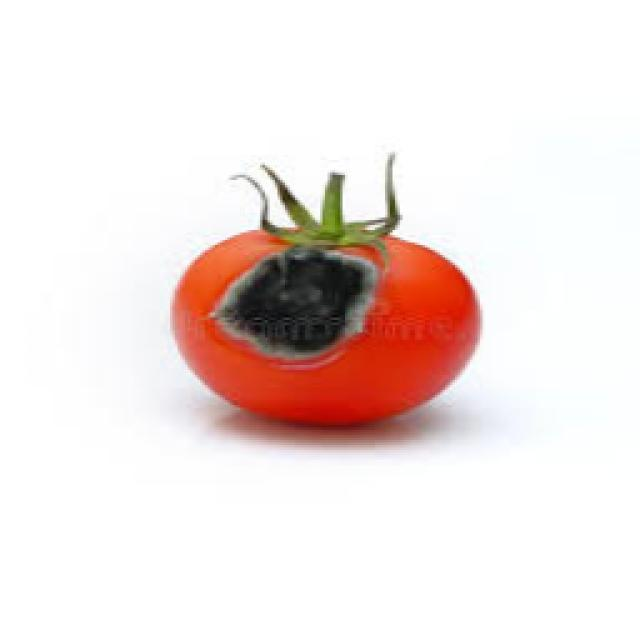overripe tomato: (161, 162, 488, 451)
